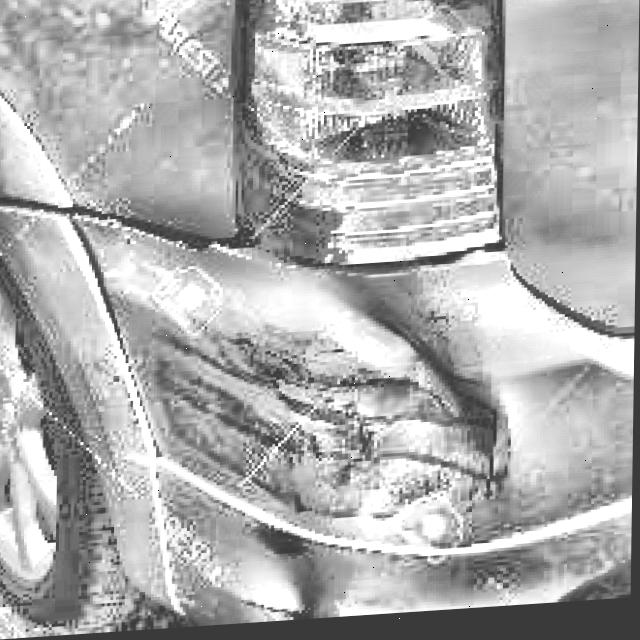bumper_dent: (320, 301, 504, 532), (156, 265, 224, 338), (258, 557, 323, 622)
tail_lamp: (253, 0, 494, 245)
